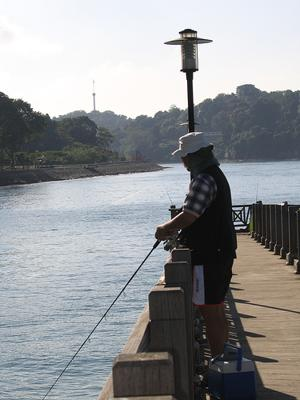person: (155, 132, 237, 358)
